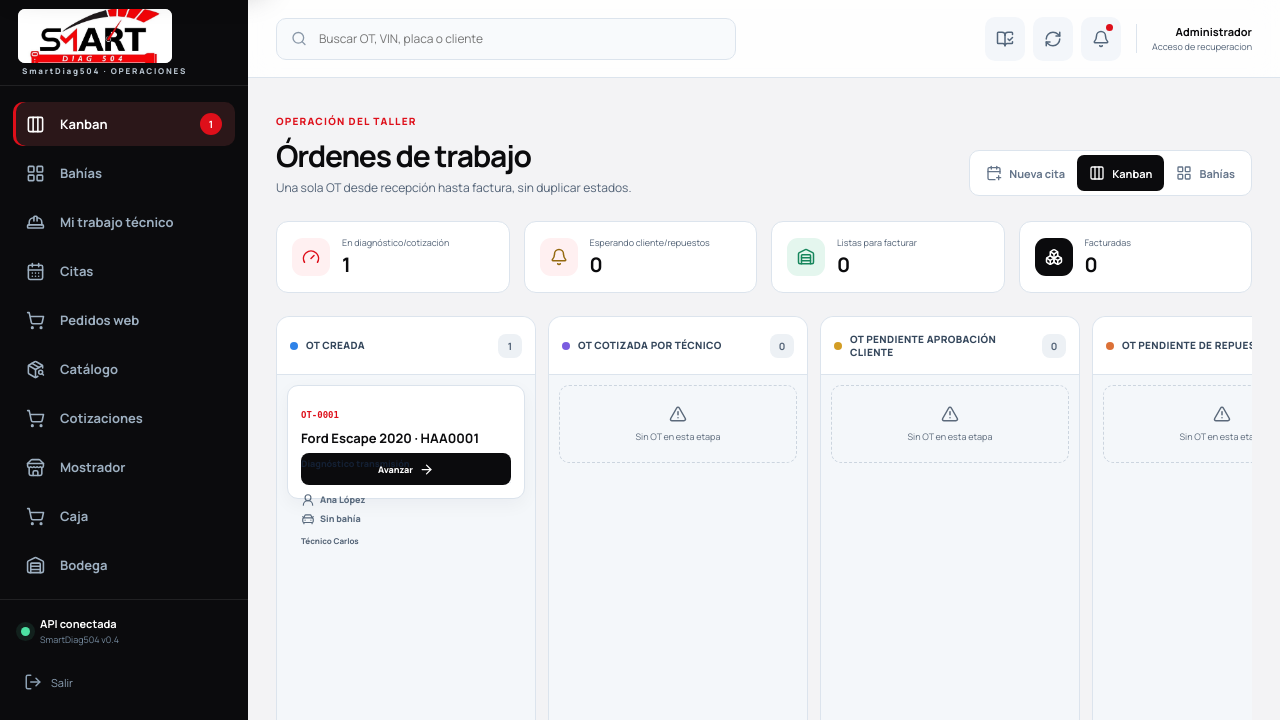
Test: SmartDiag504 operations › keeps bays disabled until the administrator enables them
This screenshot has width=1280, height=720.
What coordinates should you click on to do the following:
click the button "Bahías" below "· OPERACIONES"
I would click on:
 (124, 173)
Its box is [13,151,235,195].
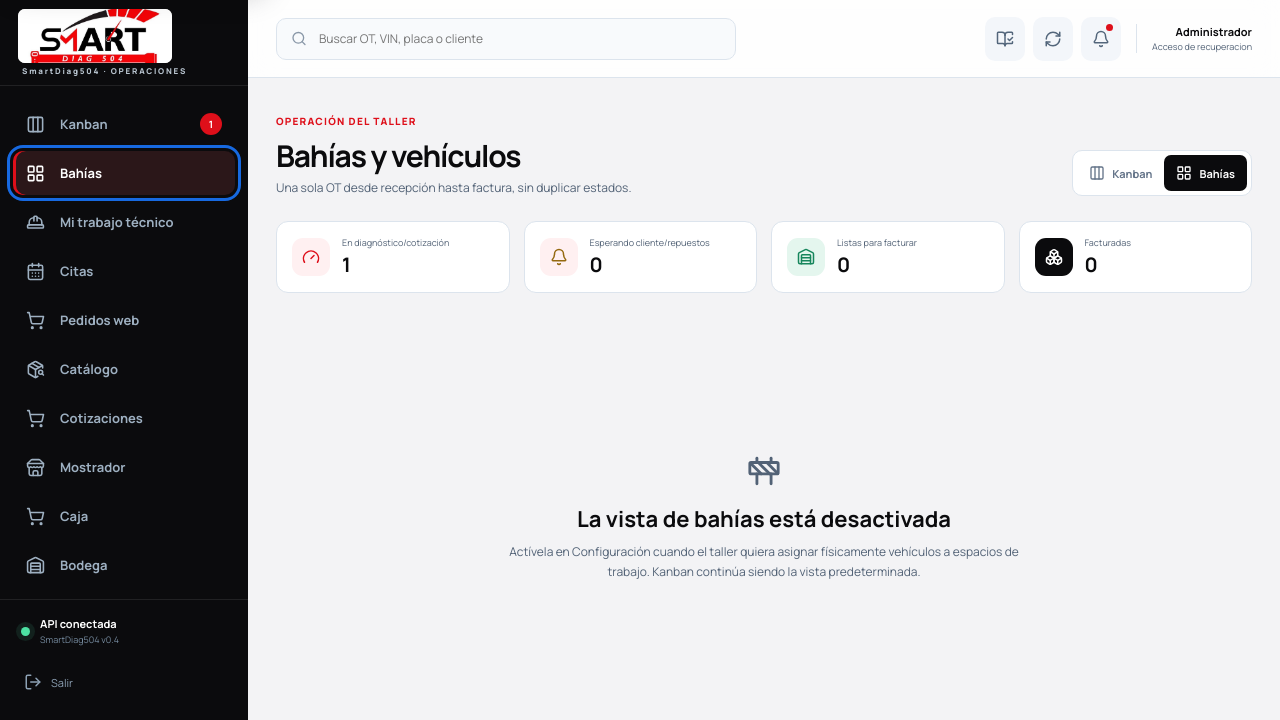
Expected: the heading "La vista de bahías está desactivada" is shown, [577,504,951,534]
